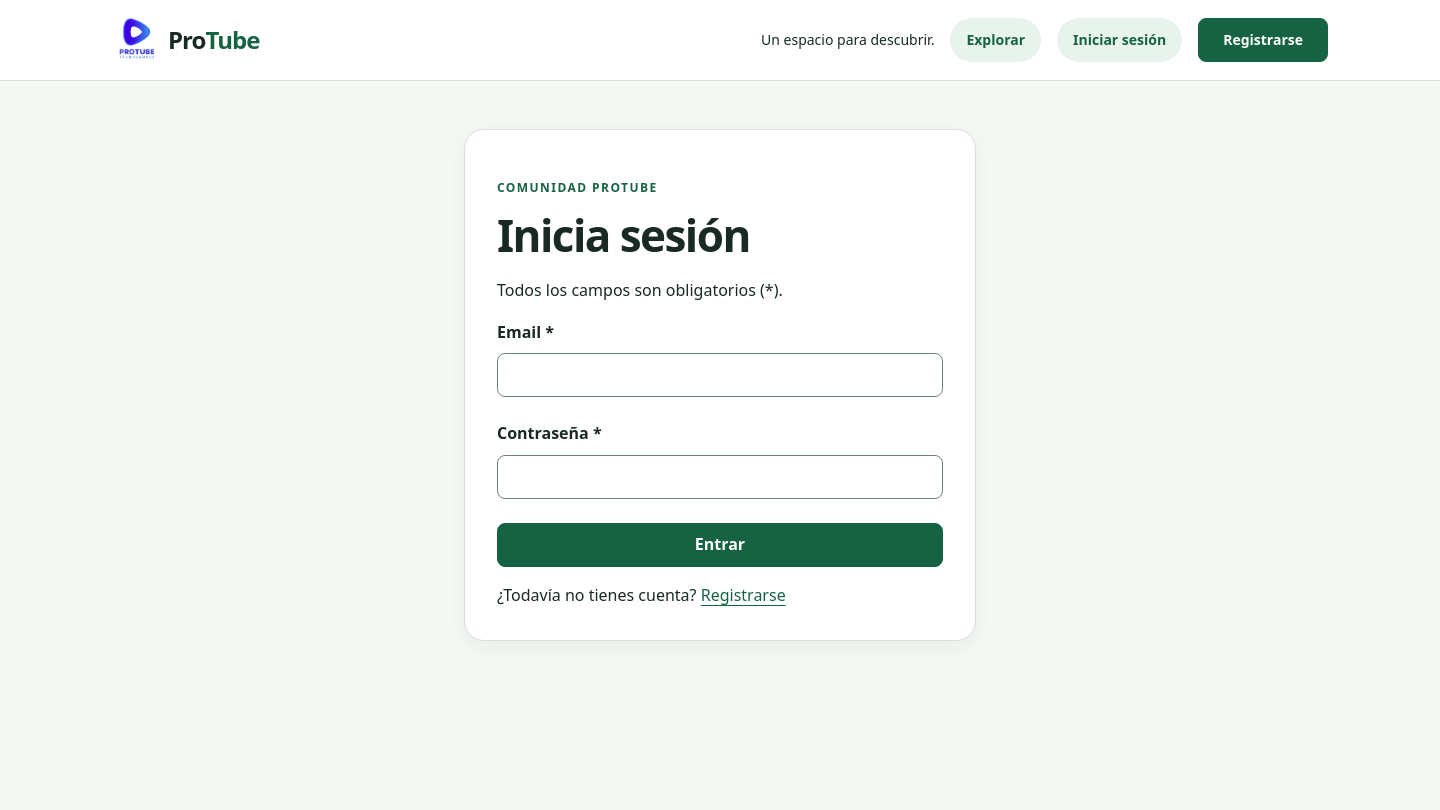
Test: login navigates home and updates header after access
Type "anna@example.com" into the field labelled "Email *" at (720, 375), box [497,353,943,397]
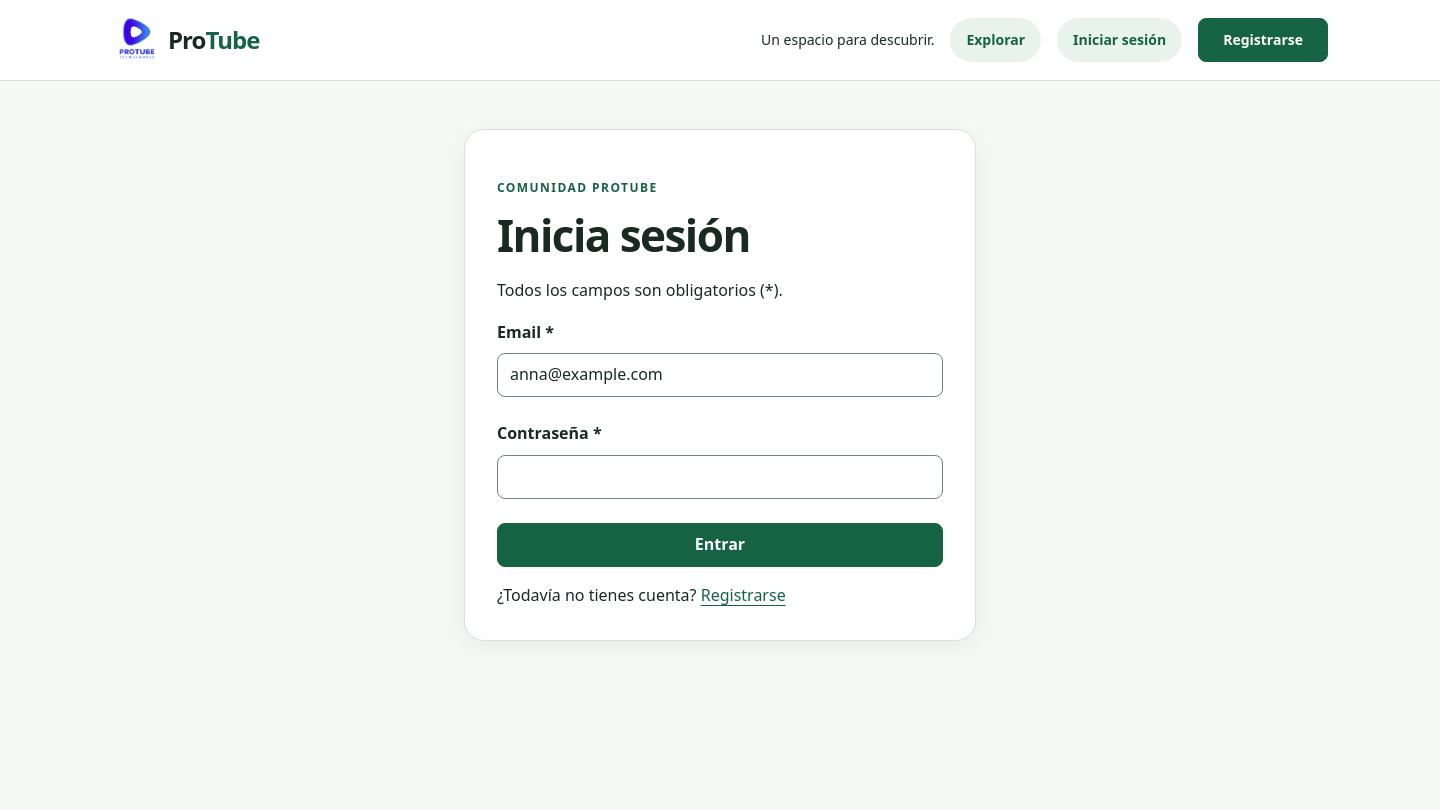
Type "Password1!" into the password field labelled "Contraseña *" at (720, 477), box [497,455,943,499]
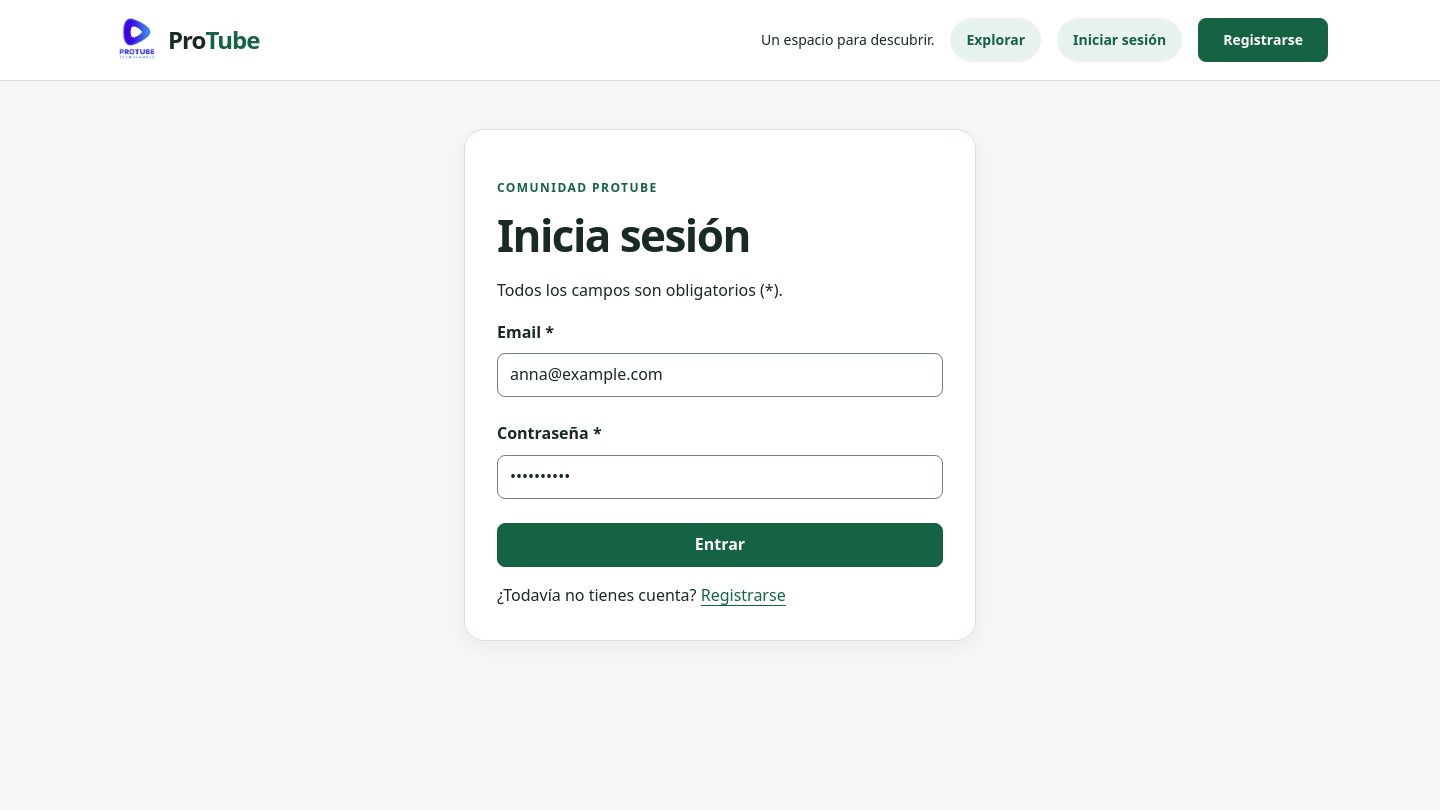
Click the button "Entrar" at (720, 545), box [497,523,943,567]
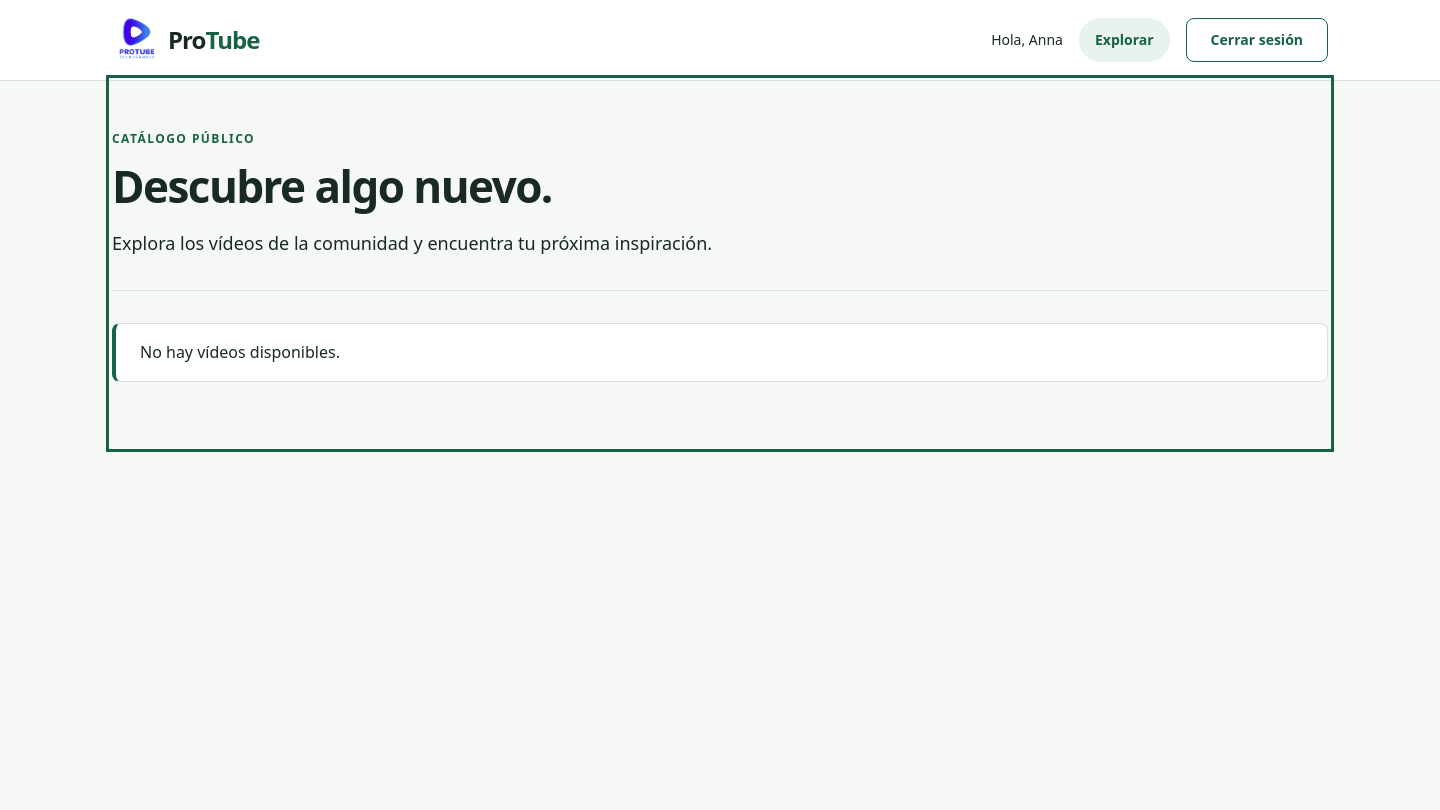
Now the text "Hola, Anna" is shown, box [991,29,1063,51]
Now the heading "Descubre algo nuevo." is shown, box [112,156,552,216]
Now the label labelled "Contraseña *" is gone
